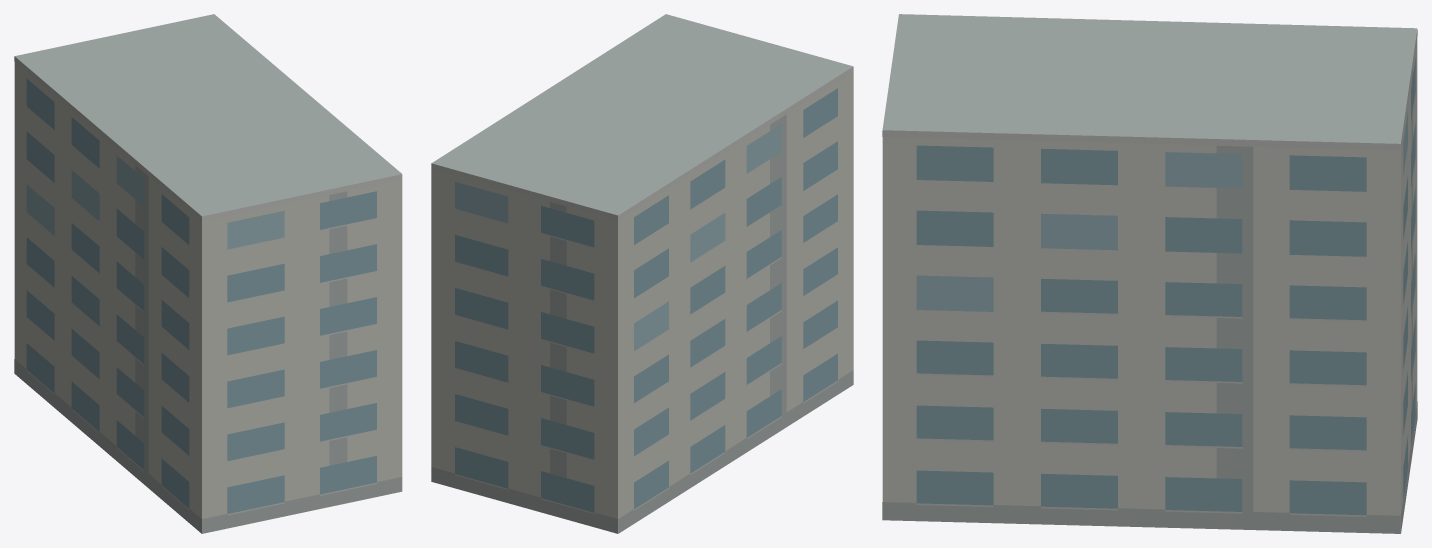
Rendered from survey-upis-32762196.glb.
3 renders of one model, left to right at view 1: azimuth 30°, elevation 25°; view 2: azimuth 150°, elevation 25°; view 3: azimuth 270°, elevation 25°, orthographic. The views are drawn at different scales.
Parts seen in each view (by area): view 1: survey-upis-32762196.tmp; view 2: survey-upis-32762196.tmp; view 3: survey-upis-32762196.tmp.
Part boxes in pixels (x1,y1,x2,y2): survey-upis-32762196.tmp: (14, 14, 402, 533); survey-upis-32762196.tmp: (431, 14, 853, 533); survey-upis-32762196.tmp: (882, 14, 1417, 533).
Size of the model in its own units: 10.08 by 14.1 by 17.54.
